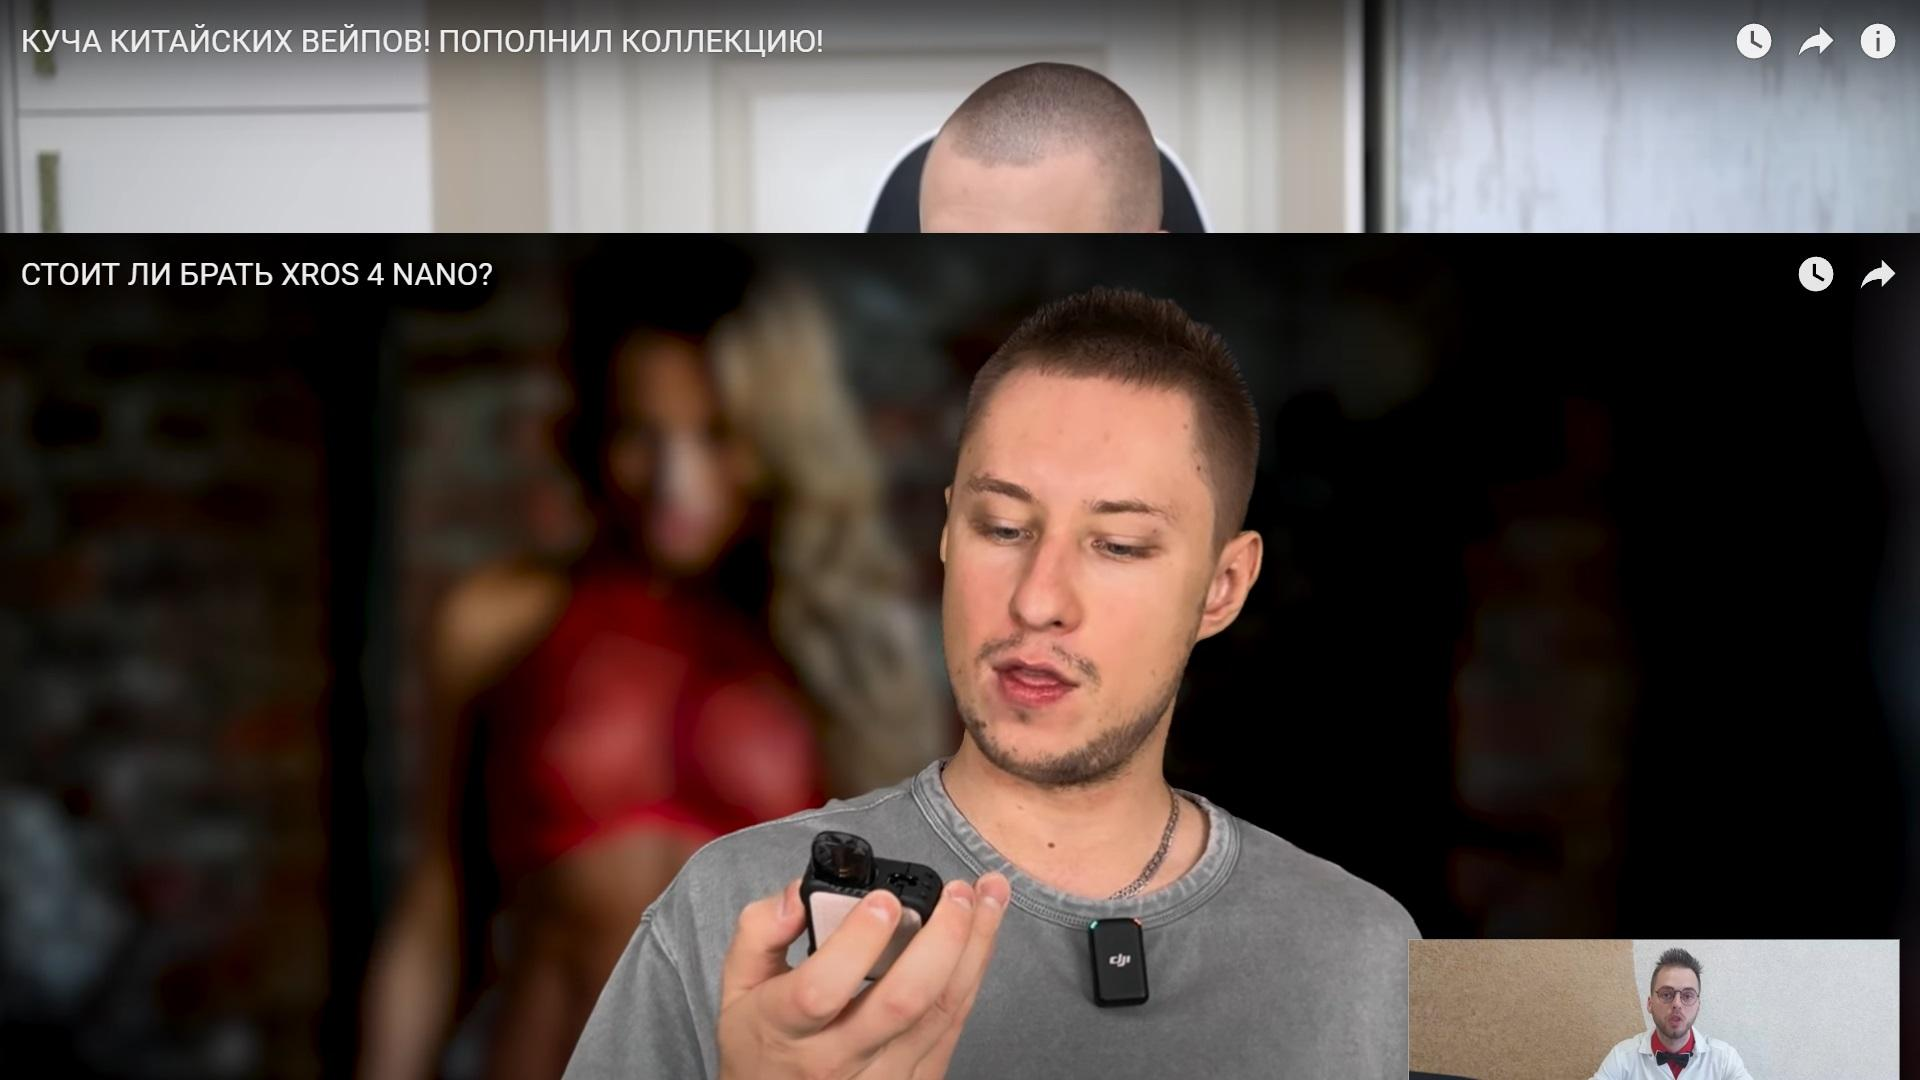Vape: (800, 832, 943, 985)
